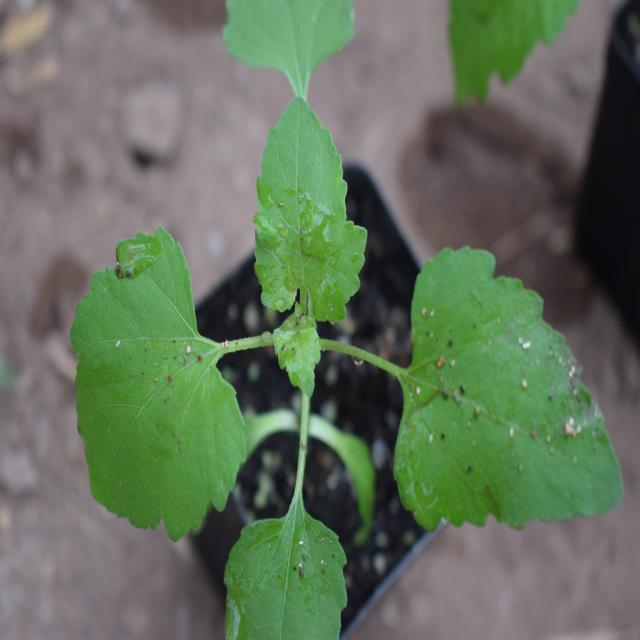cocklebur: (68, 112, 620, 611)
